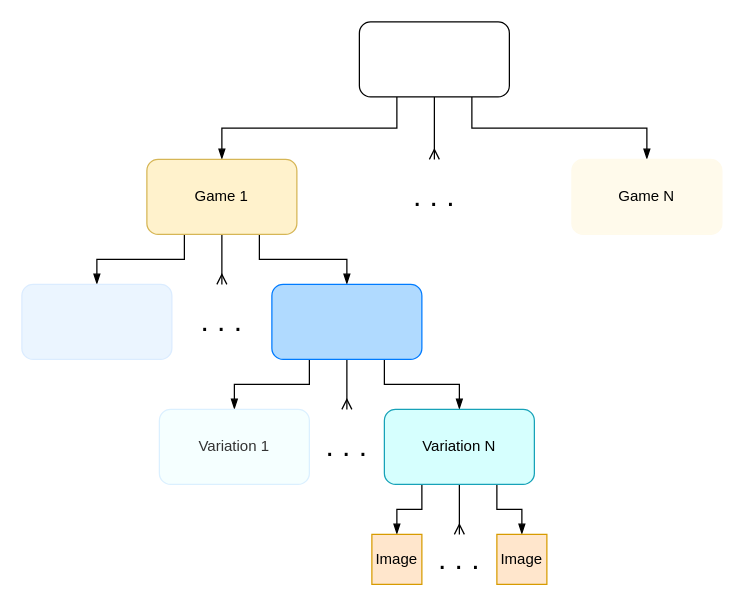
This 744x606 diagram has some shape labels left out. Here are the shapes that lost their labels. From the top down, the box of each, then its label:
(358, 21, 509, 97): Gallery
(21, 283, 172, 359): Pipeline 1
(271, 283, 422, 359): Pipeline N
